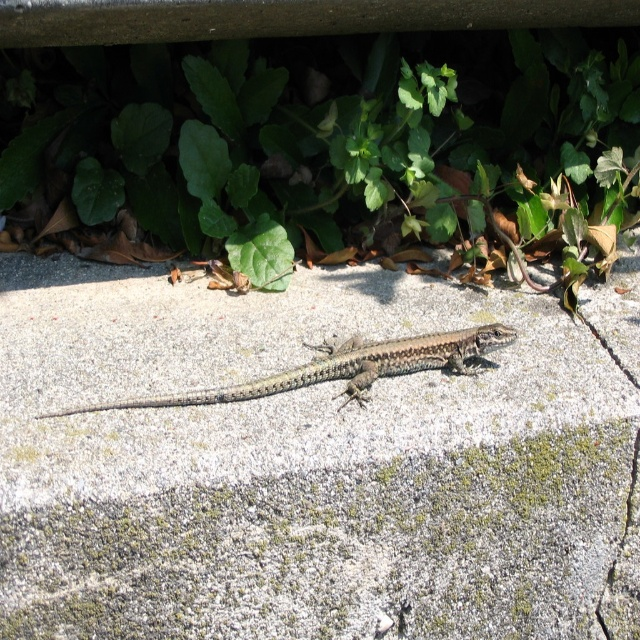Lizard: (34, 321, 518, 414)
